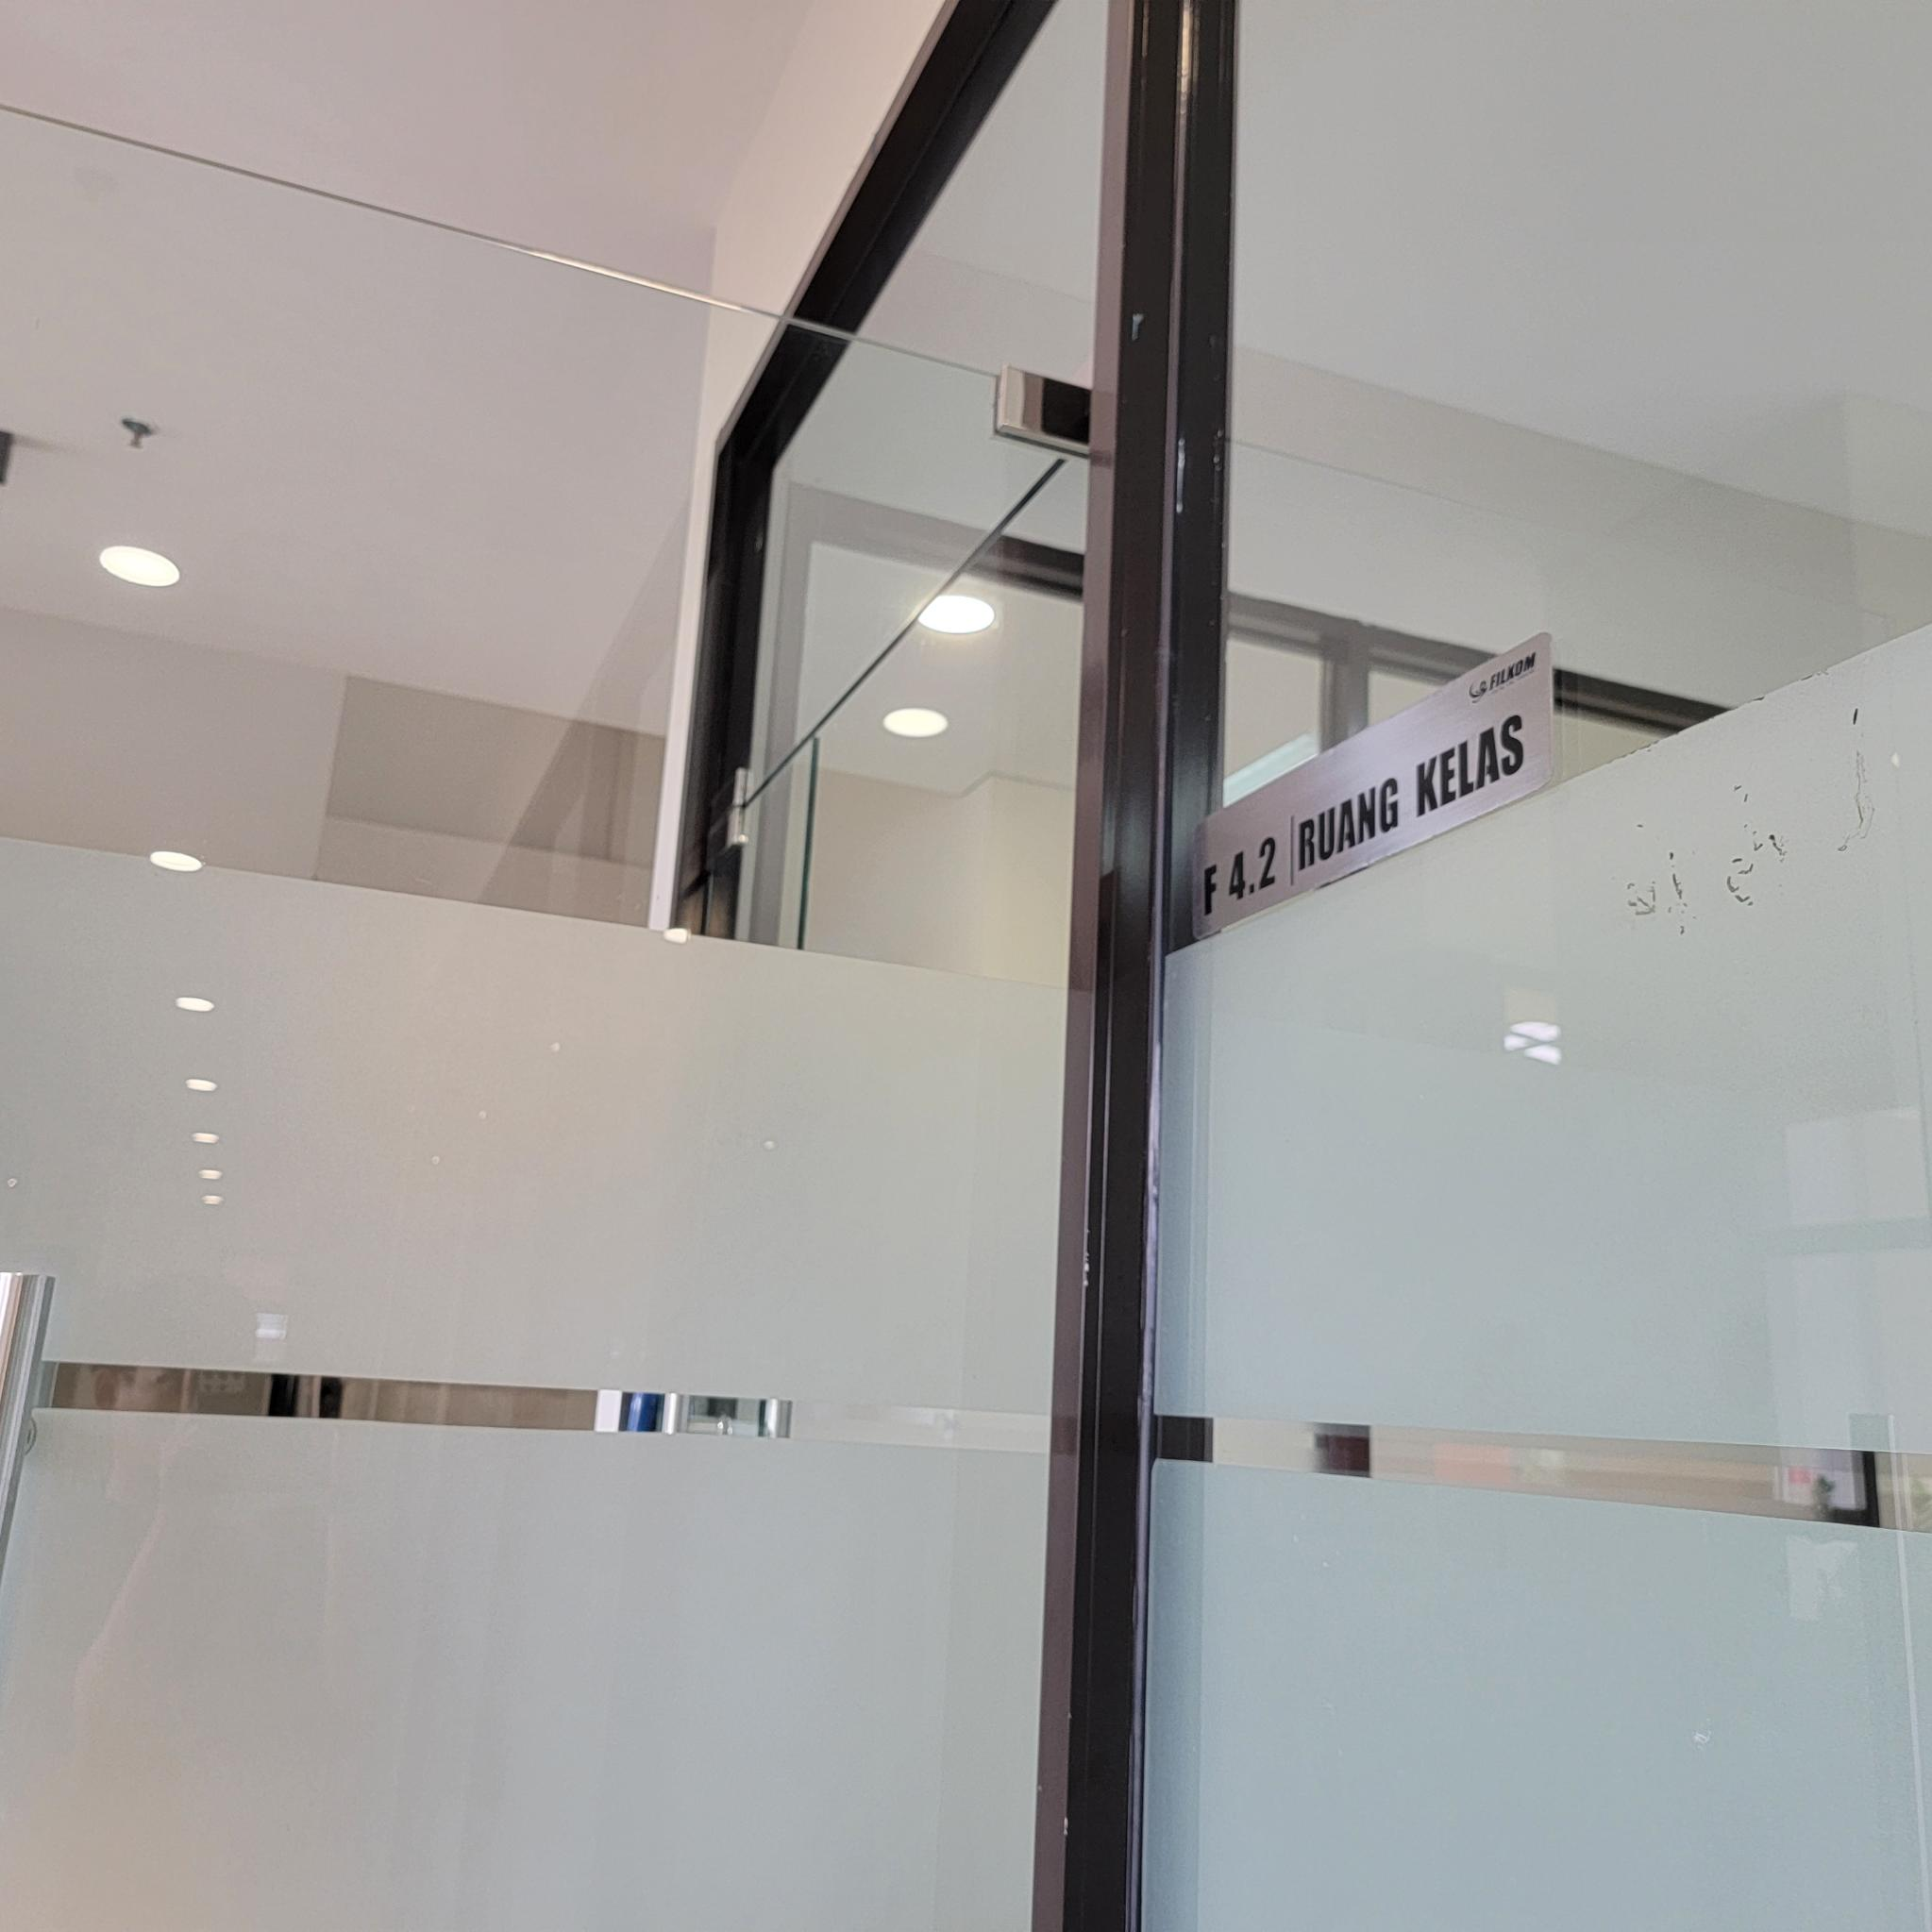plate: (1192, 633, 1552, 941)
